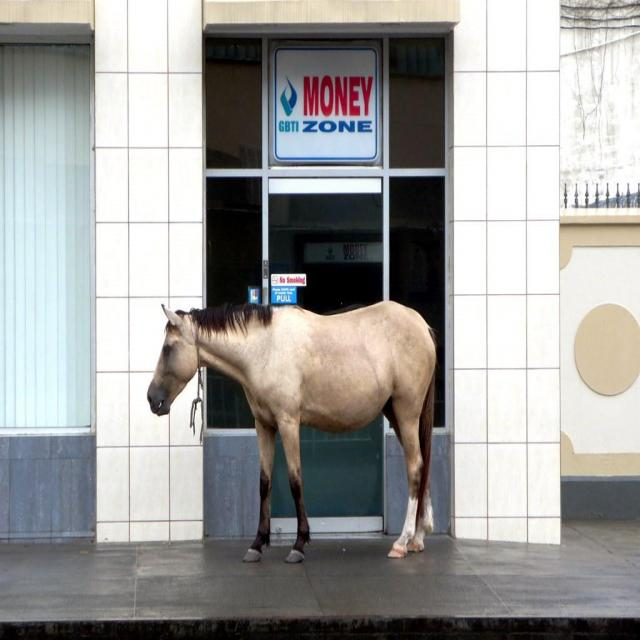Horse: (144, 301, 437, 567)
